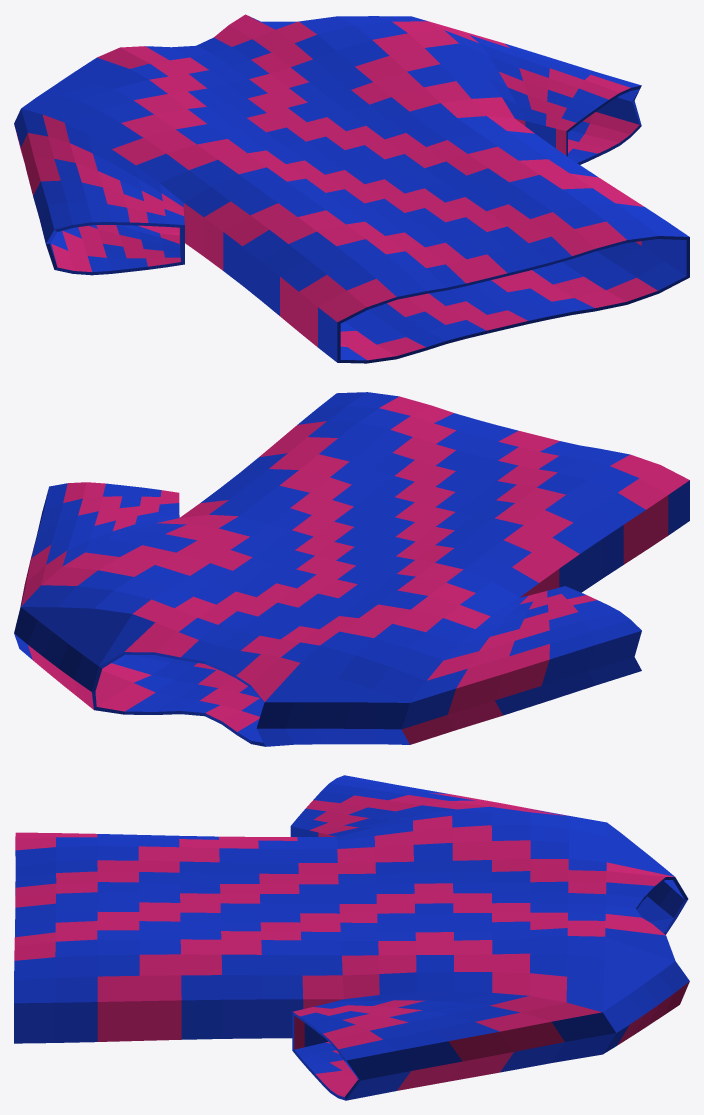
File: Shirt 8.fbx
3 renders of one model, top to bottom at view 1: azimuth 30°, elevation 25°; view 2: azimuth 150°, elevation 25°; view 3: azimuth 270°, elevation 25°, orthographic.
Parts seen in each view (by area): view 1: Node 0; view 2: Node 0; view 3: Node 0.
Boxes of the visible parts, bbox=[...] form: Node 0: bbox=[14, 14, 689, 363]; Node 0: bbox=[14, 392, 689, 746]; Node 0: bbox=[14, 775, 689, 1100].
Bounding box in the file's own units: 1.07 × 0.1419 × 1.07.
